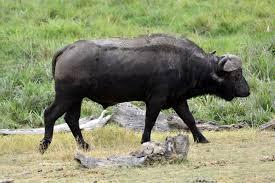Buffalo: (49, 28, 269, 140)
